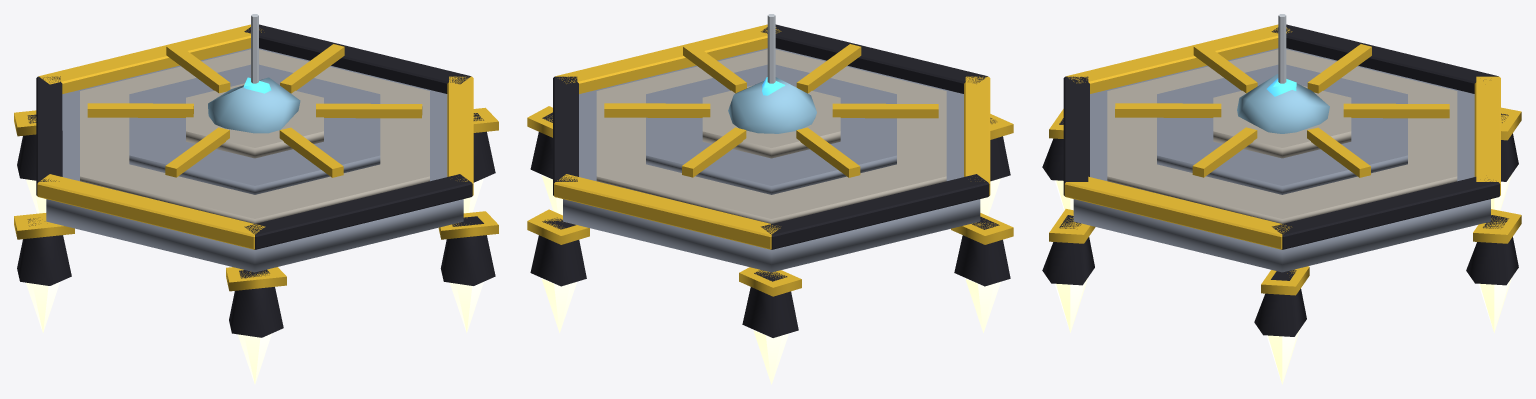
The model's file is aegis_platform.glb.
3 views of the same model, side by side, from view 1: azimuth 30°, elevation 25°; view 2: azimuth 150°, elevation 25°; view 3: azimuth 270°, elevation 25° (orthographic).
Parts seen in each view (by area): view 1: aegis_platform; view 2: aegis_platform; view 3: aegis_platform.
Boxes of the visible parts, bbox=[...] form: aegis_platform: bbox=[14, 14, 498, 384]; aegis_platform: bbox=[527, 14, 1013, 384]; aegis_platform: bbox=[1042, 14, 1521, 384].
Bounding box in the file's own units: 67.6 × 36 × 58.78.
Materials: 1 (1 with a texture image).
